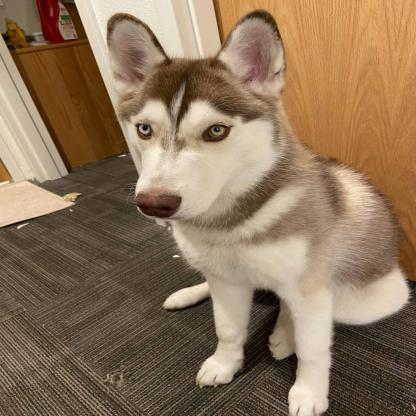dog: (97, 11, 409, 416)
